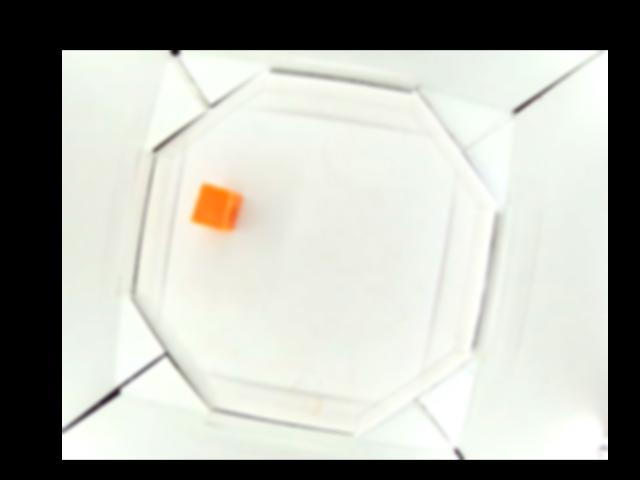Carrot: (190, 182, 241, 231)
